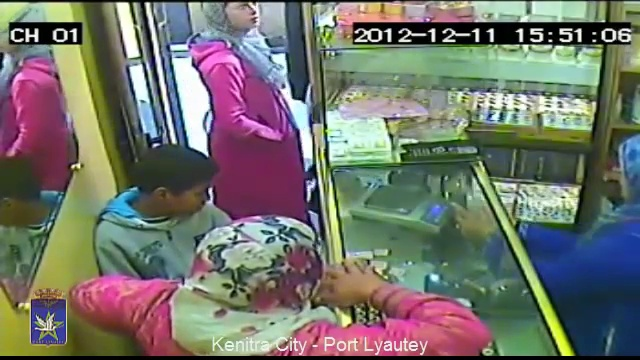face: (175, 175, 215, 215), (229, 2, 260, 31)
